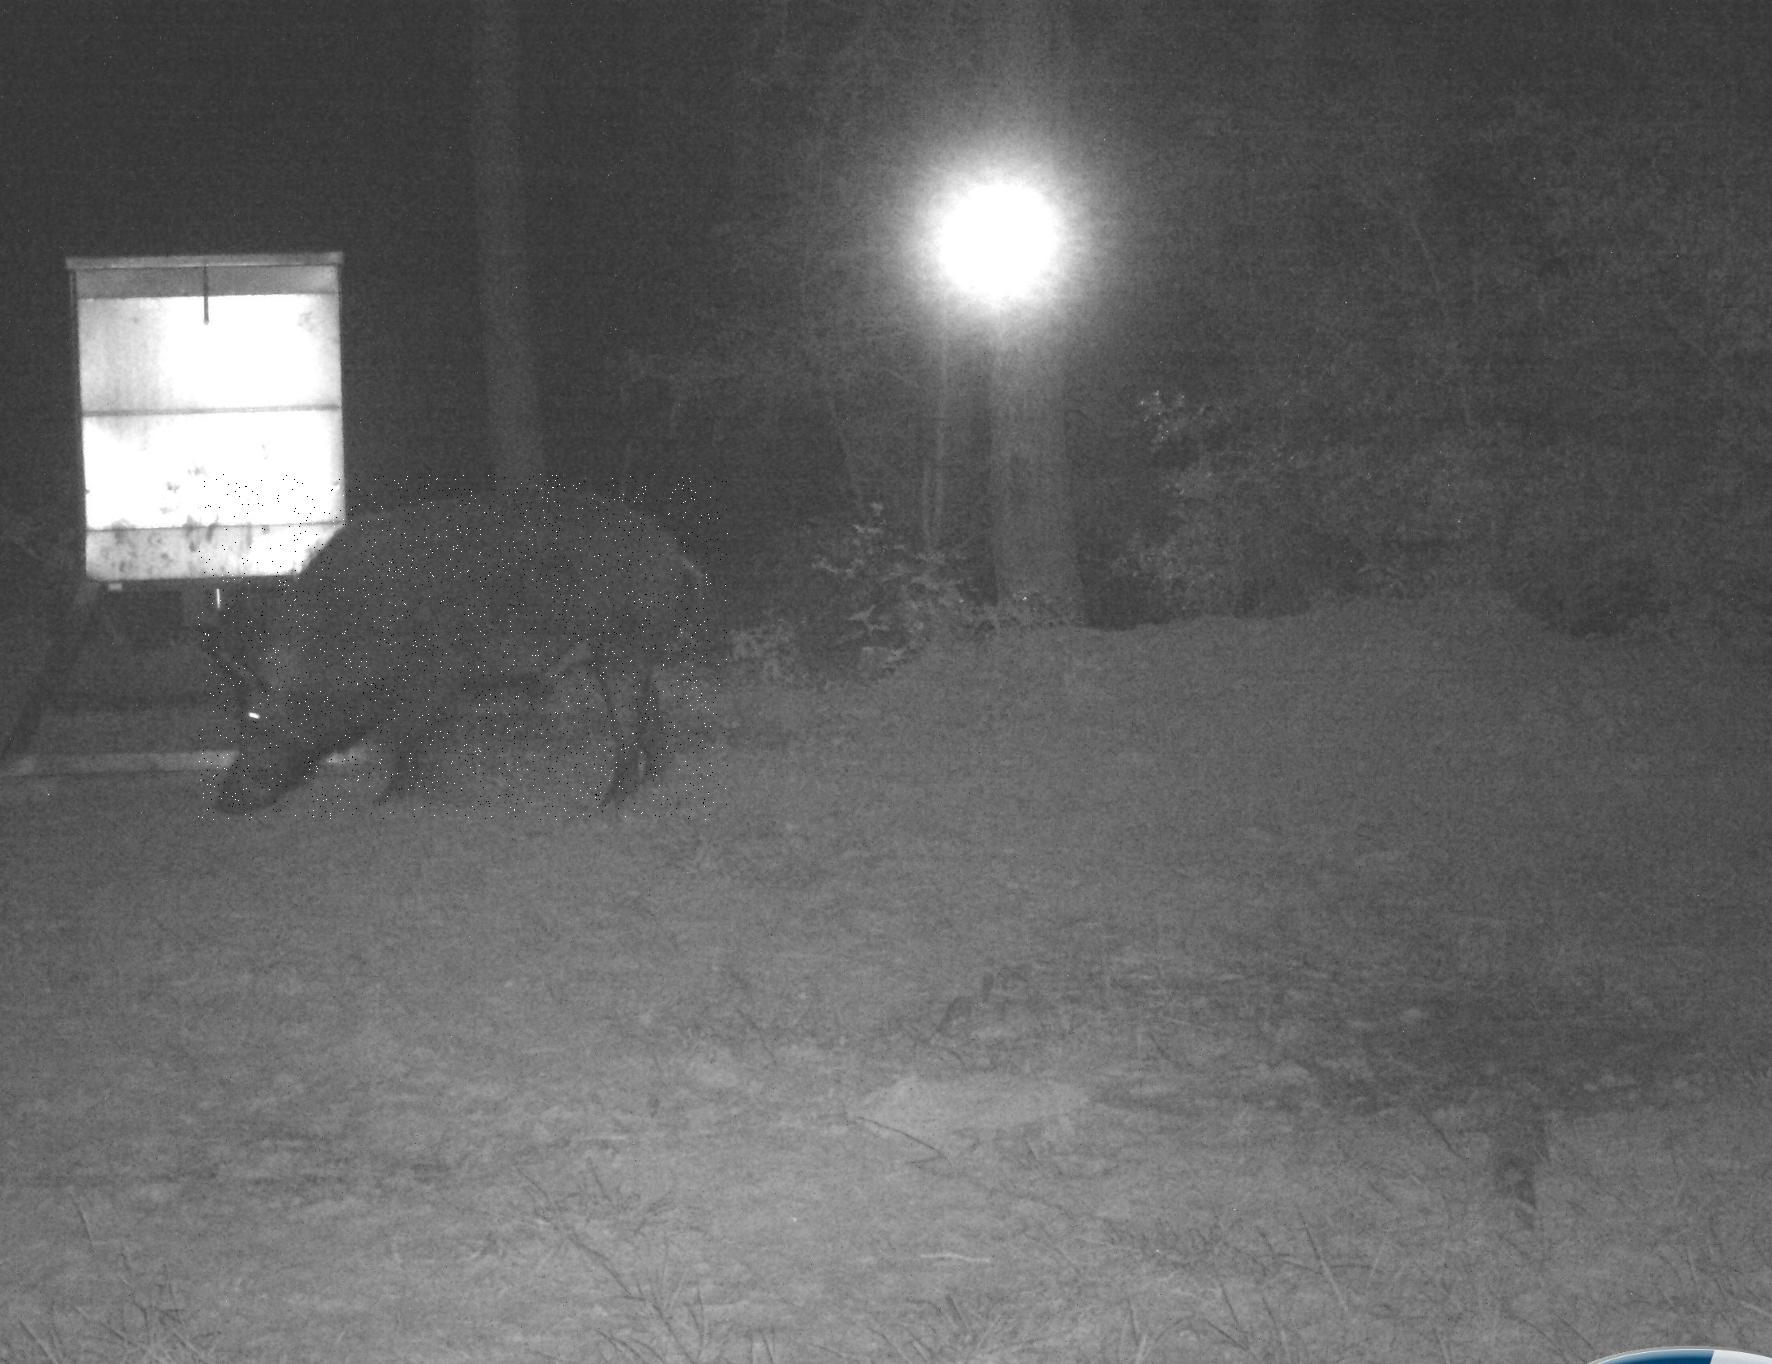Hog: (198, 474, 728, 820)
